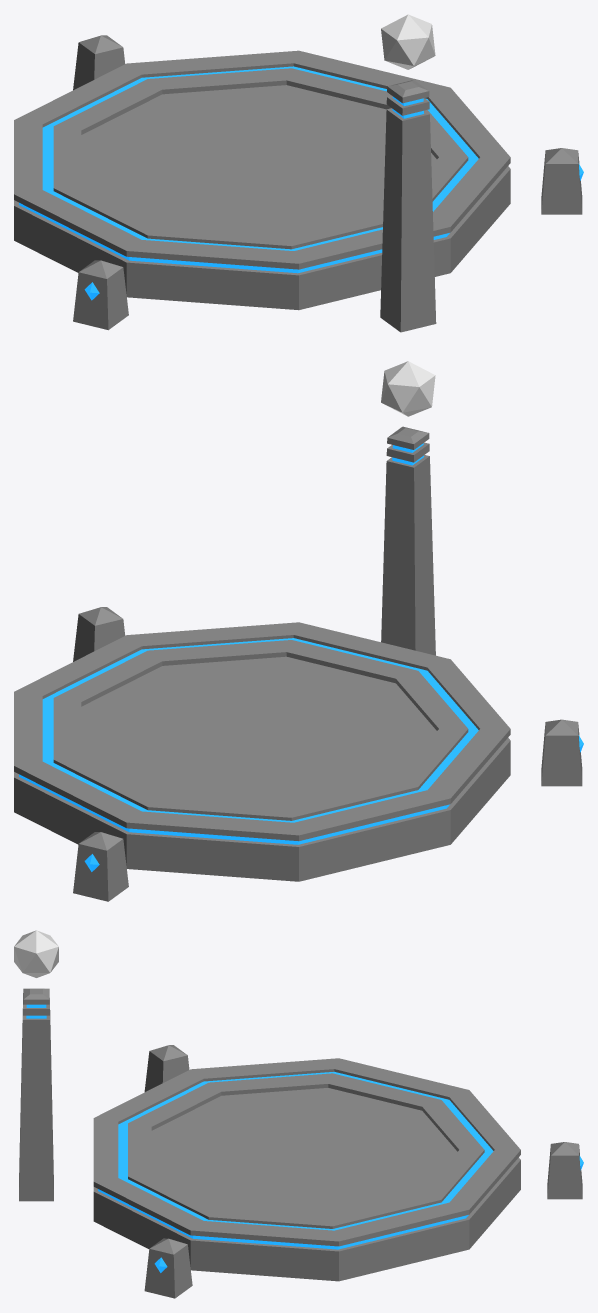
Rendered from LandingPad.fbx.
The picture shows the model from 3 angles, top to bottom: view 1: azimuth 30°, elevation 25°; view 2: azimuth 150°, elevation 25°; view 3: azimuth 270°, elevation 25°; orthographic projection. The views are drawn at different scales.
Parts seen in each view (by area): view 1: Platform, LightSphere; view 2: Platform, LightSphere; view 3: Platform, LightSphere.
Part boxes in pixels (<box>): Platform: <box>14,35,583,332</box>; LightSphere: <box>381,14,435,69</box>; Platform: <box>14,426,583,901</box>; LightSphere: <box>381,361,435,416</box>; Platform: <box>19,988,583,1298</box>; LightSphere: <box>14,930,58,977</box>.
Bounding box in the file's own units: 2297 × 1320 × 2588.
